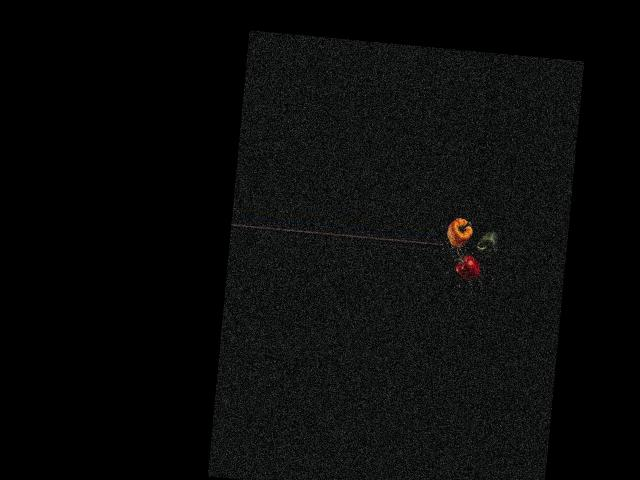bell_pepper: (448, 249, 487, 281)
